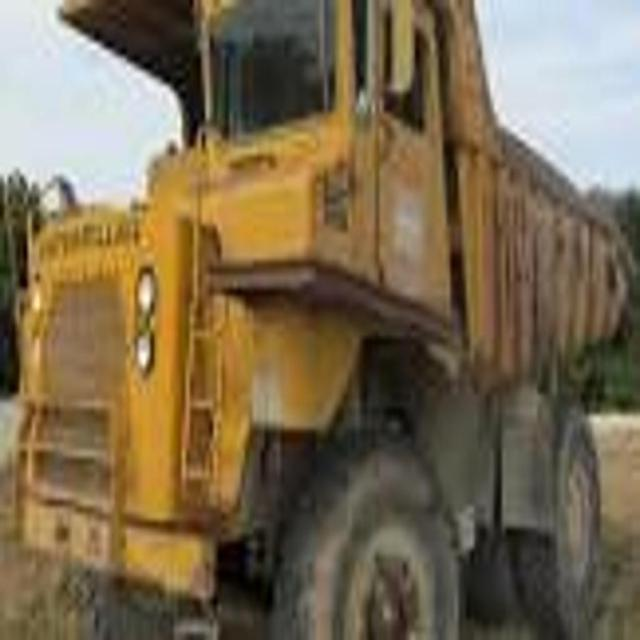dump_truck: (20, 7, 636, 640)
